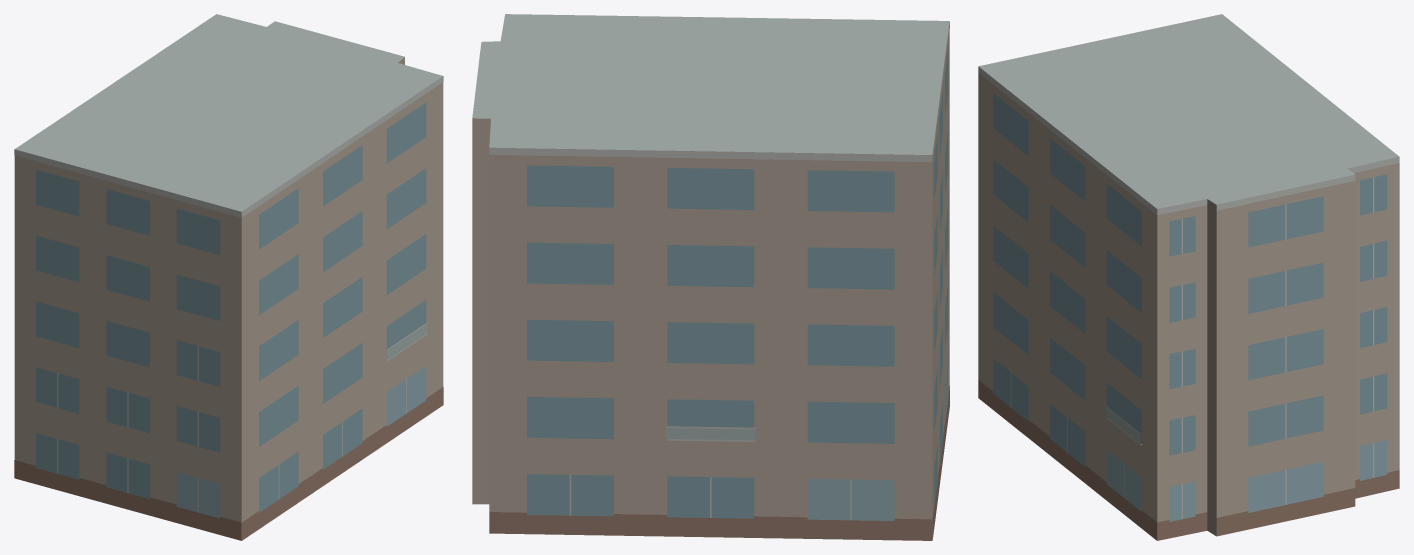
File: survey-upis-32830238.glb
The picture shows the model from 3 angles, left to right: view 1: azimuth 30°, elevation 25°; view 2: azimuth 150°, elevation 25°; view 3: azimuth 270°, elevation 25°; orthographic projection. The views are drawn at different scales.
Visible parts, largest first — view 1: survey-upis-32830238.tmp; view 2: survey-upis-32830238.tmp; view 3: survey-upis-32830238.tmp.
Part boxes in pixels (x1,y1,x2,y2): survey-upis-32830238.tmp: [14, 14, 443, 540]; survey-upis-32830238.tmp: [472, 14, 949, 540]; survey-upis-32830238.tmp: [978, 14, 1399, 540].
Size of the model in its own units: 16.79 by 13.3 by 15.32.
